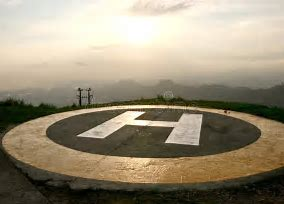H: (76, 110, 203, 146)
